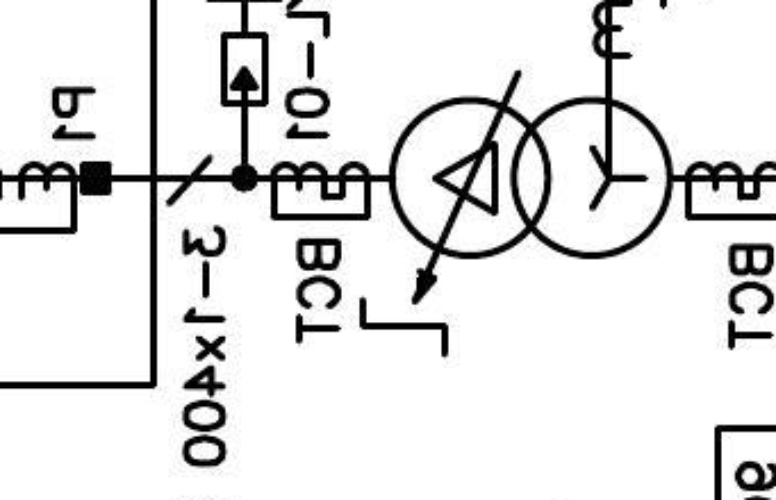11522_tx_dyn1: (388, 95, 675, 261)
